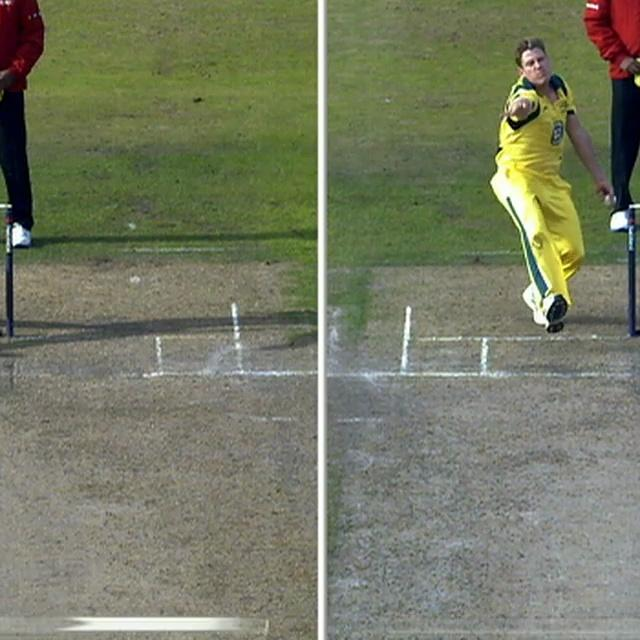umpire: (571, 0, 640, 234)
